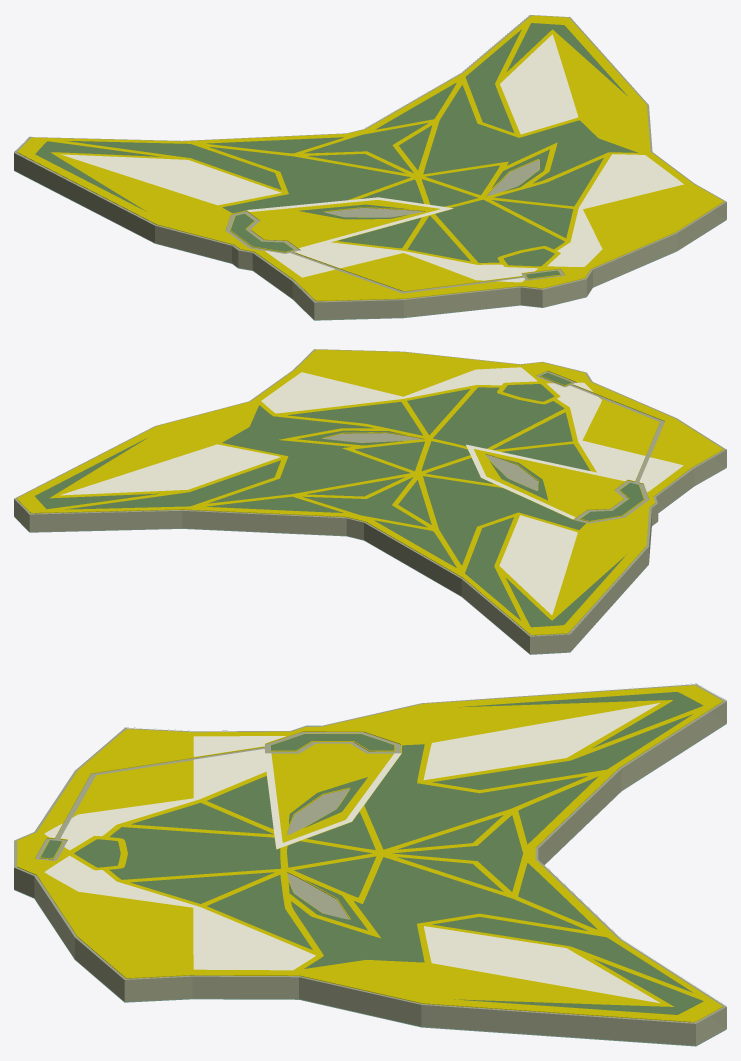
The model's file is fuccs-shitty-addon-hw.glb.
The picture shows the model from 3 angles, top to bottom: view 1: azimuth 30°, elevation 25°; view 2: azimuth 150°, elevation 25°; view 3: azimuth 270°, elevation 25°; orthographic projection. The views are drawn at different scales.
Parts seen in each view (by area): view 1: =>[0:1:1:2], =>[0:1:1:6], =>[0:1:1:4], =>[0:1:1:8]; view 2: =>[0:1:1:2], =>[0:1:1:6], =>[0:1:1:4], =>[0:1:1:8]; view 3: =>[0:1:1:2], =>[0:1:1:6], =>[0:1:1:4], =>[0:1:1:8].
Part boxes in pixels (x1,y1,x2,y2): =>[0:1:1:2]: [17, 15, 723, 301]; =>[0:1:1:6]: [14, 15, 726, 320]; =>[0:1:1:4]: [61, 34, 683, 282]; =>[0:1:1:8]: [14, 15, 726, 319]; =>[0:1:1:2]: [17, 349, 722, 635]; =>[0:1:1:6]: [14, 372, 726, 654]; =>[0:1:1:4]: [60, 367, 683, 614]; =>[0:1:1:8]: [14, 349, 726, 654]; =>[0:1:1:2]: [17, 685, 722, 1022]; =>[0:1:1:6]: [14, 683, 726, 1046]; =>[0:1:1:4]: [44, 703, 660, 1003]; =>[0:1:1:8]: [14, 684, 726, 1045].
Size of the model in its own units: 0.0502 by 0.00166 by 0.0445.
4 materials, 4 textured.
